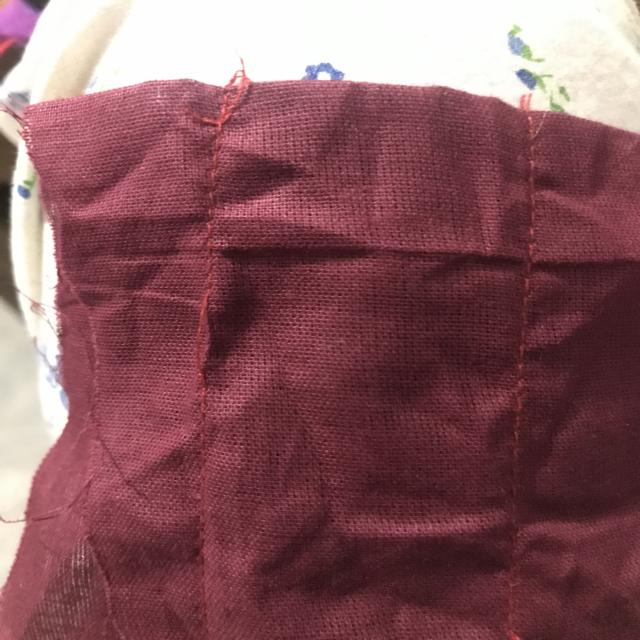good: (514, 275, 536, 378)
skip: (179, 284, 226, 398)
